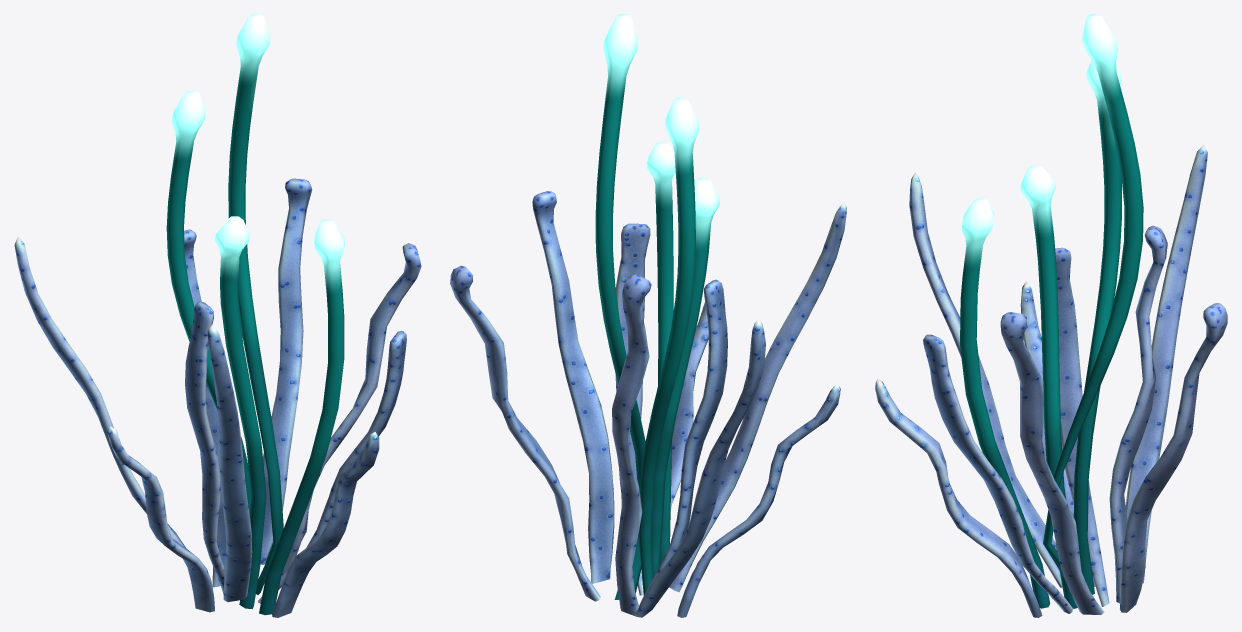
File: PlantSeaweed01_1.FBX
The picture shows the model from 3 angles, left to right: view 1: azimuth 30°, elevation 25°; view 2: azimuth 150°, elevation 25°; view 3: azimuth 270°, elevation 25°; orthographic projection. The views are drawn at different scales.
Parts seen in each view (by area): view 1: PlantSeaweed01_1; view 2: PlantSeaweed01_1; view 3: PlantSeaweed01_1.
Boxes of the visible parts, x1,y1,x2,y2 form: PlantSeaweed01_1: (14, 14, 421, 617); PlantSeaweed01_1: (450, 14, 846, 617); PlantSeaweed01_1: (875, 14, 1227, 617).
Size of what is drawn, in the model's own units: 0.5682 by 0.9988 by 0.5303.
